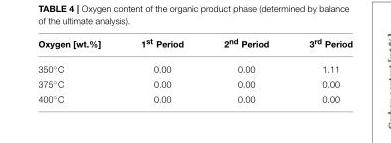table: (37, 37, 351, 103)
table column: (203, 37, 288, 103), (37, 37, 120, 103), (120, 37, 203, 103), (288, 37, 351, 103)
table column header: (37, 37, 351, 56)
table row: (37, 56, 351, 76), (37, 37, 351, 56), (37, 76, 351, 91), (37, 91, 351, 103)
